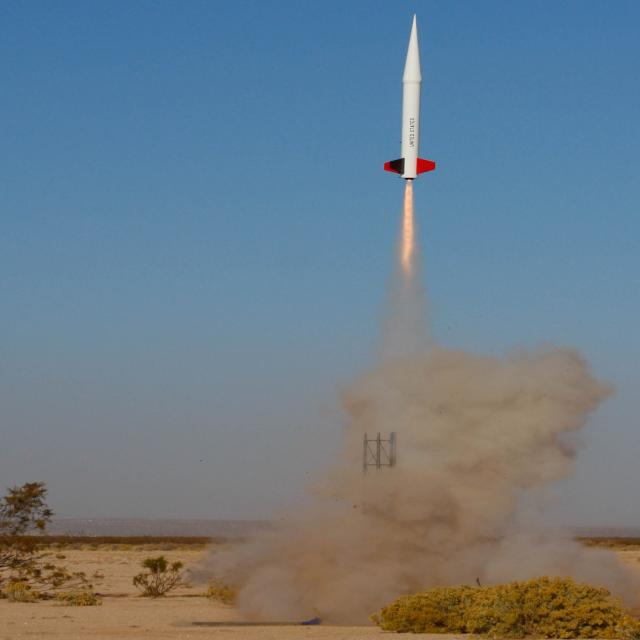Rocket: (382, 13, 438, 181)
